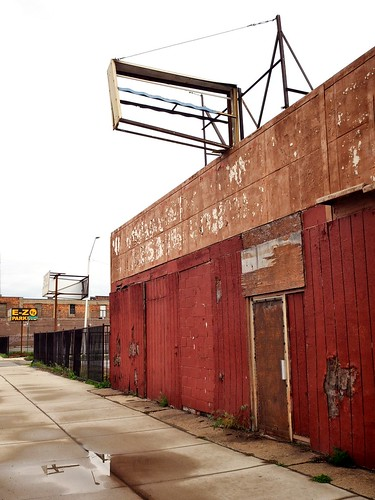building: (108, 92, 375, 476)
door: (244, 298, 296, 435)
sidewalk: (1, 350, 353, 500)
sky: (1, 1, 375, 277)
